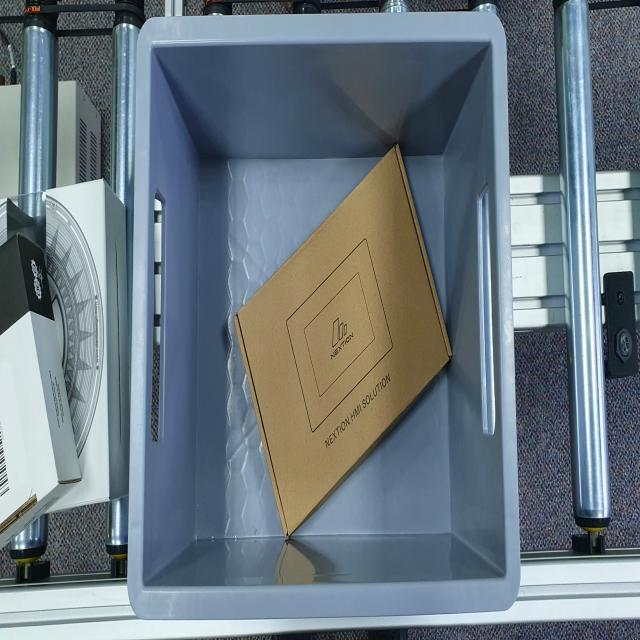box: (234, 141, 455, 539)
